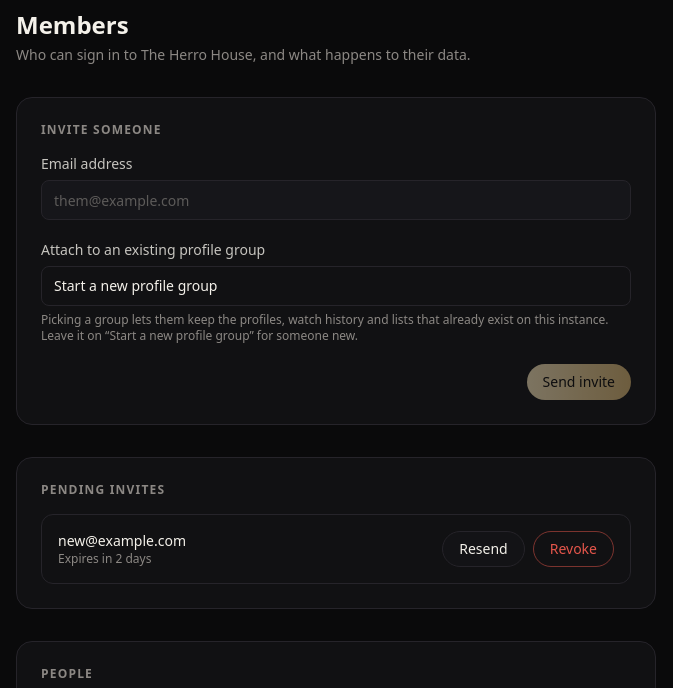
Scenario: MembersView invites › reports a duplicate address instead of failing silently
Type "ava@example.com" into the field labelled "Email address". click: [336, 200]
box: 41,180 -> 631,220
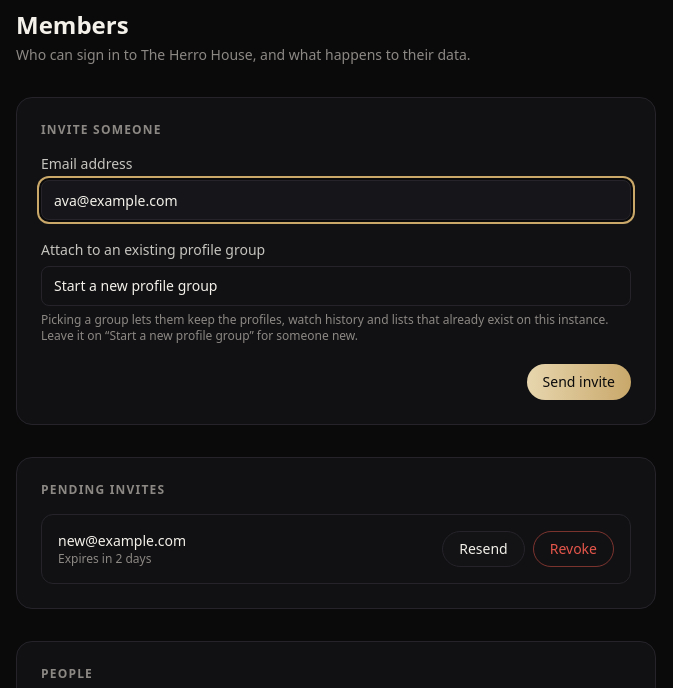
Click the button "Send invite". click: [579, 382]
box: 527,364 -> 631,400
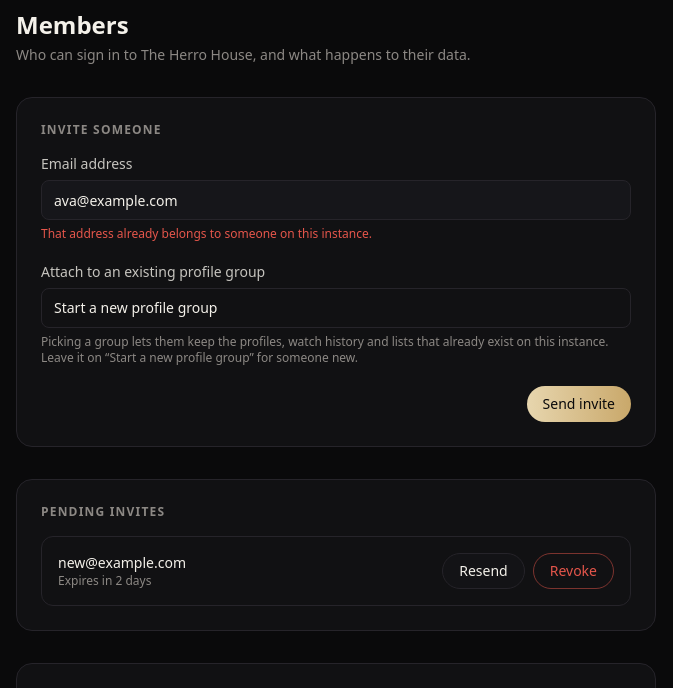
Now the message shows "already belongs to someone", box 41,225 -> 372,242
